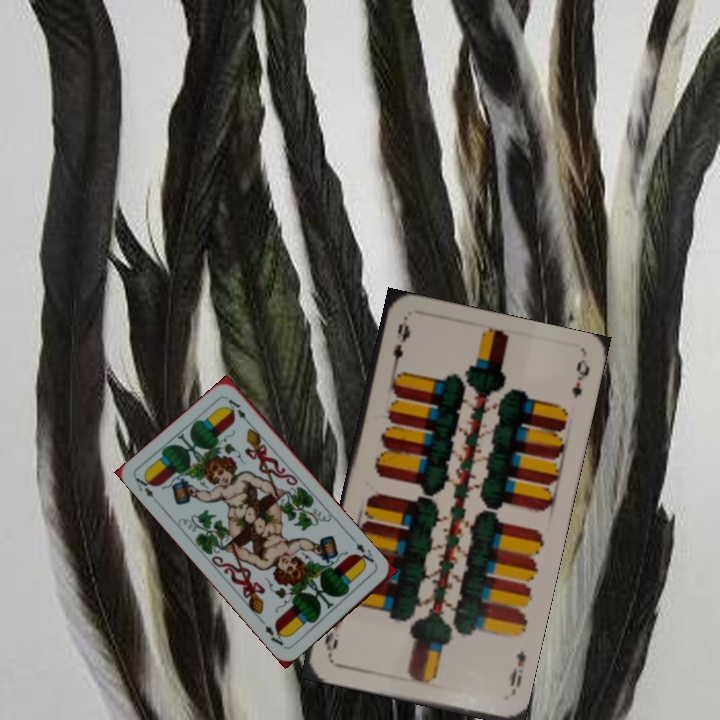E9: (388, 317, 413, 376), (505, 646, 529, 698)
EA: (350, 538, 379, 569), (131, 471, 156, 501)
